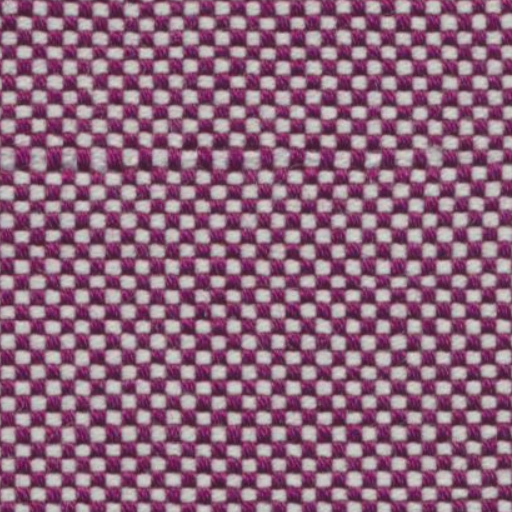DaiSha: (9, 131, 477, 190)
